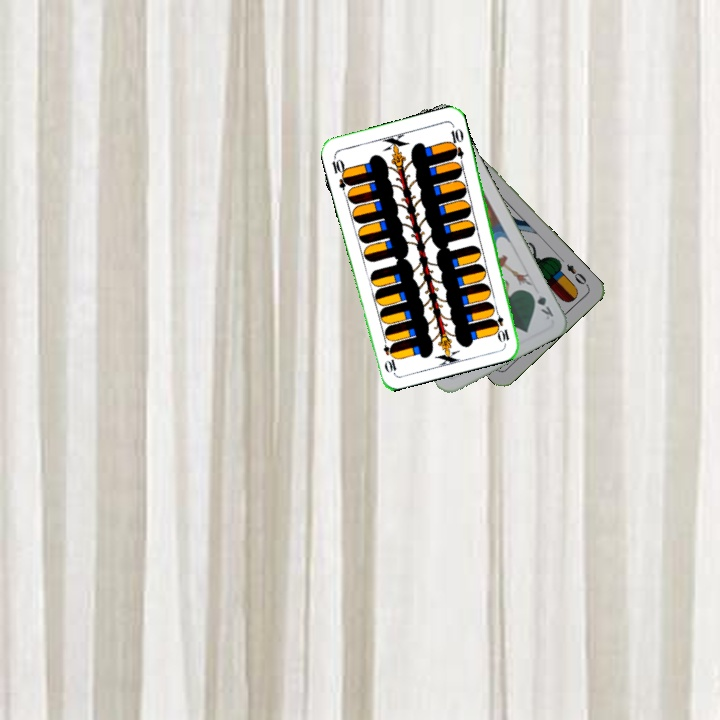E10: (327, 152, 353, 192), (490, 304, 512, 345)
EO: (562, 260, 591, 289)
GK: (526, 288, 556, 322)
